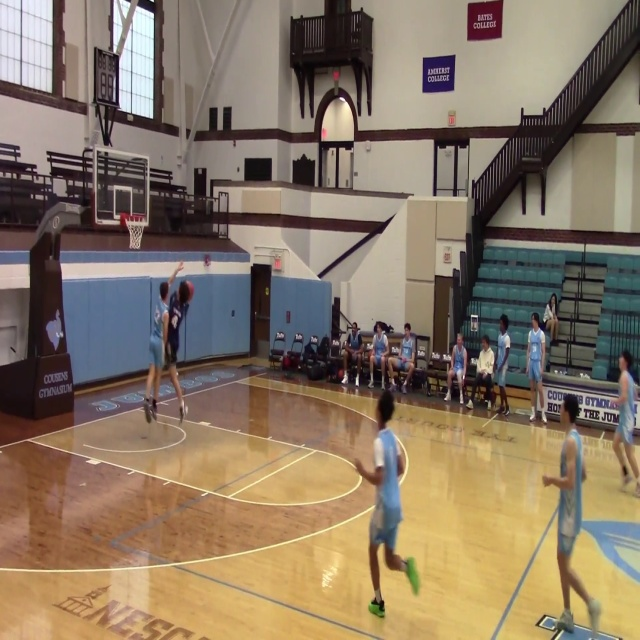Basketball: (178, 280, 194, 302), (396, 453, 405, 476)
